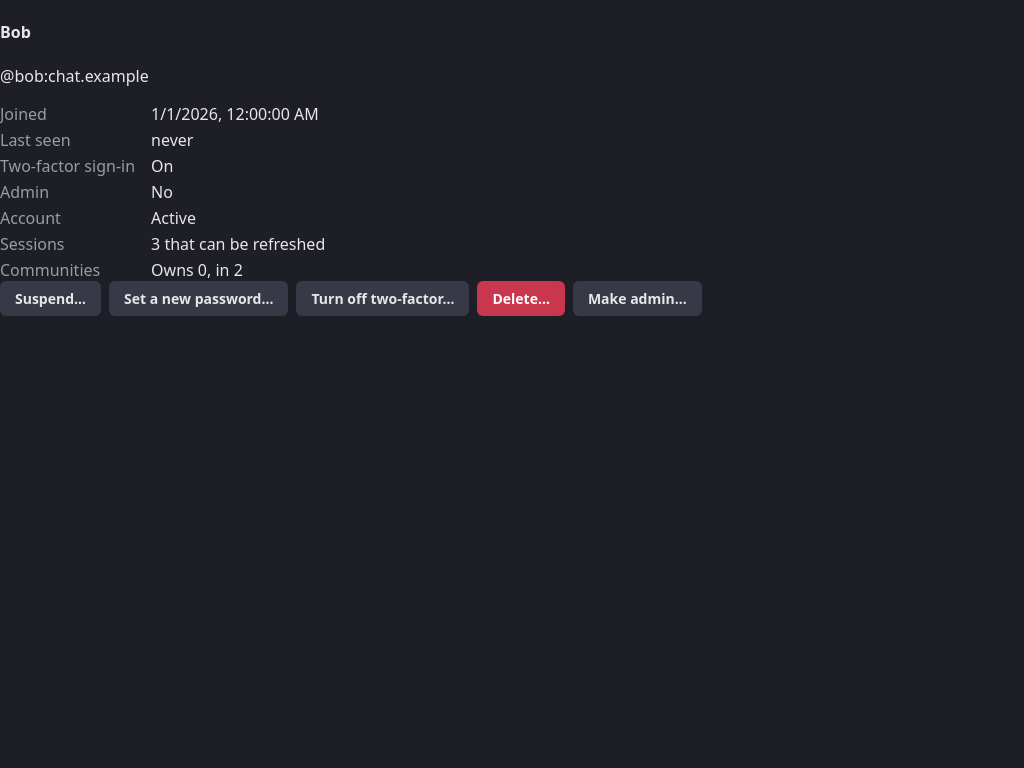
Test: doing something › suspending asks 'are you sure' first, and does nothing if the answer is no
Click the button "Suspend…": (50,298) [0,280,101,316]
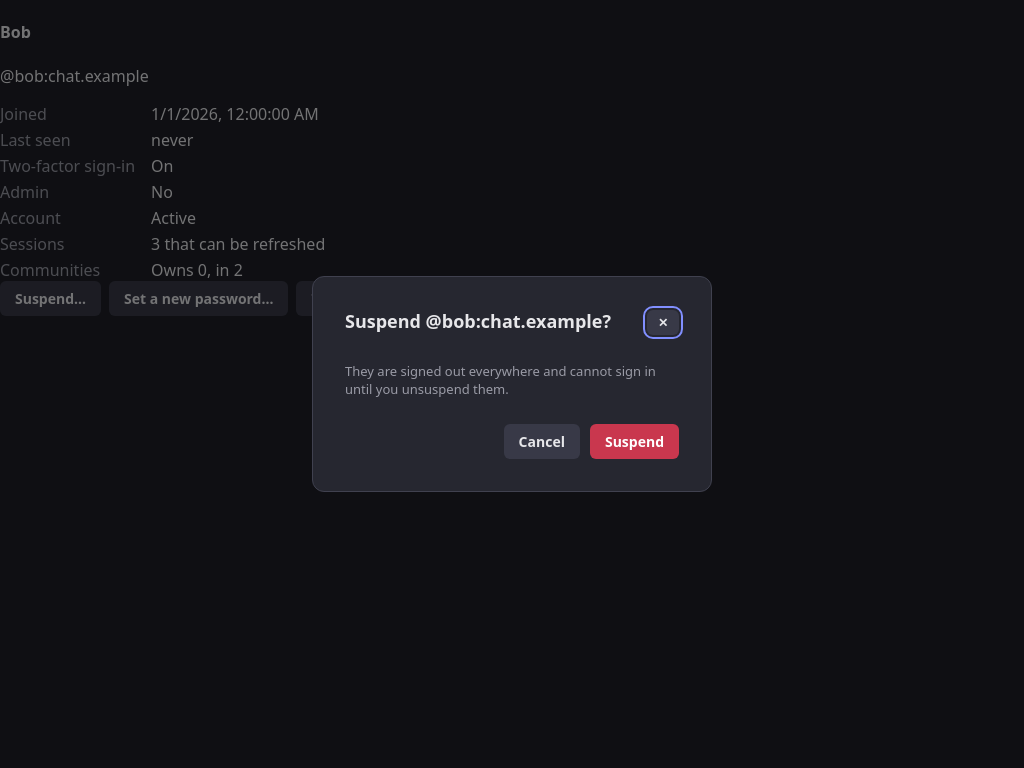
Now the dialog "Suspend @bob:chat.example?" shows "signed out everywhere", box [345,362,656,398]
Click the button "Cancel": (542,442) [504,424,580,459]
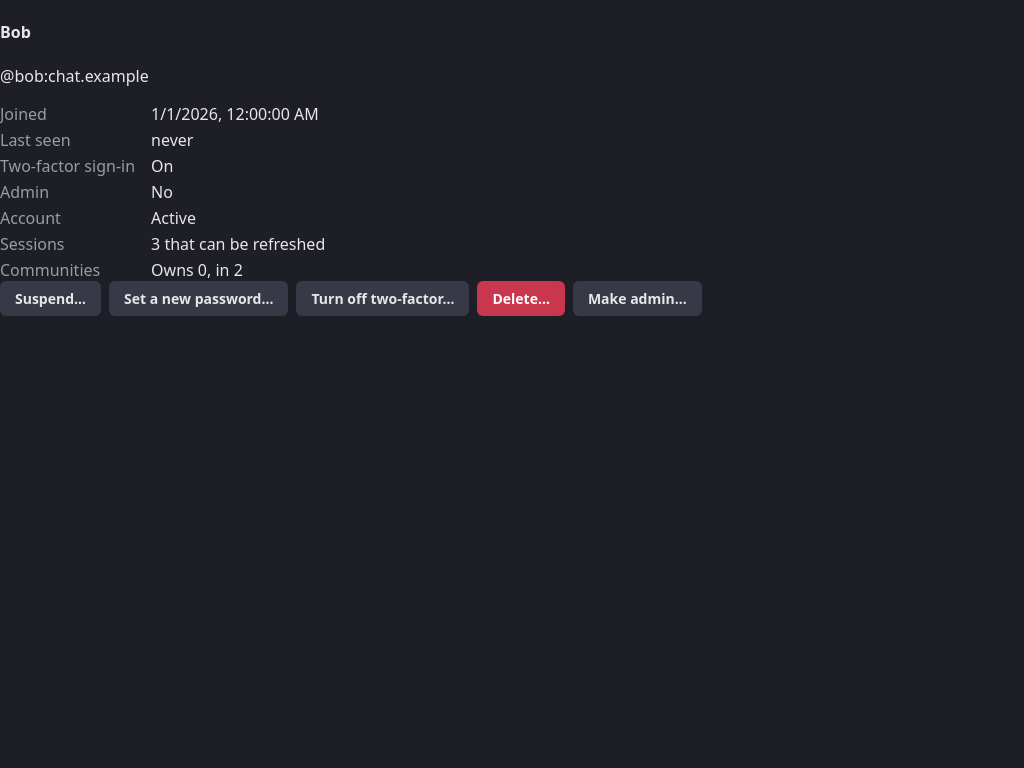
Now the dialog is gone
